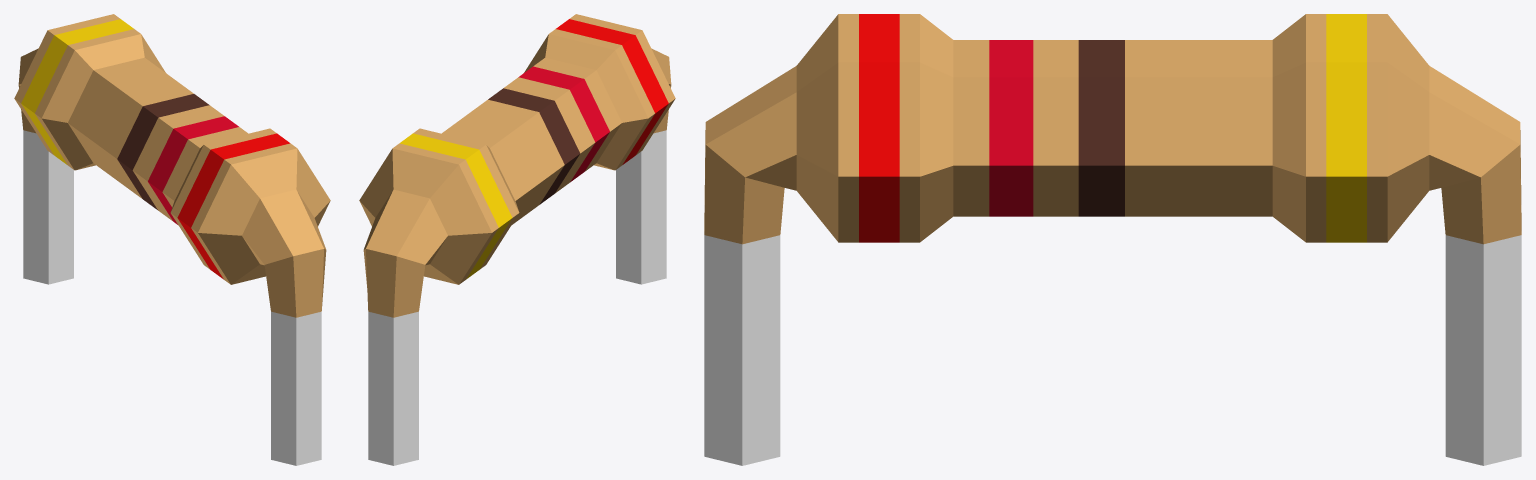
3 views of the same model, side by side, from view 1: azimuth 30°, elevation 25°; view 2: azimuth 150°, elevation 25°; view 3: azimuth 270°, elevation 25° (orthographic). The views are drawn at different scales.
Parts seen in each view (by area): view 1: Cylinder.012; view 2: Cylinder.012; view 3: Cylinder.012.
Boxes of the visible parts, left/top/right/bottom form: Cylinder.012: left=14, top=14, right=330, bottom=465; Cylinder.012: left=359, top=14, right=675, bottom=465; Cylinder.012: left=704, top=14, right=1521, bottom=465.
Size of the model in its own units: 6.69 by 13.16 by 23.81.
